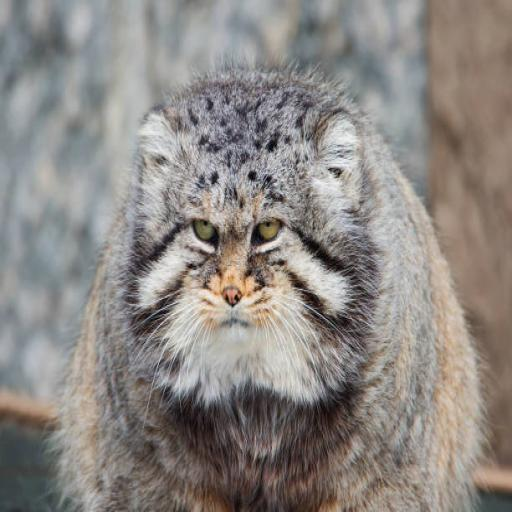manul: (59, 69, 482, 511)
